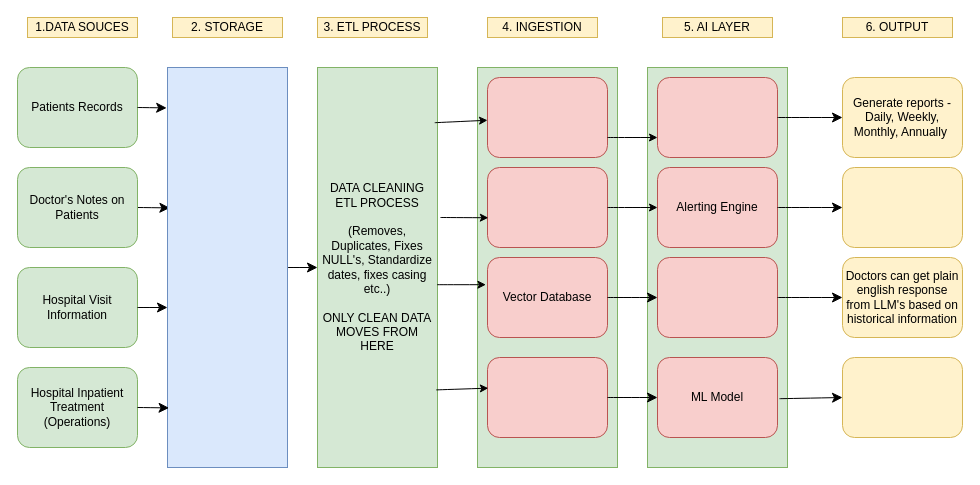
Some shapes in this 980 by 485 pixel diagram are drawn without their labels. Each missing label, with the centre of its shape:
"BI Reporting" belongs at (717,117).
"Dataware House" belongs at (547,117).
"Doctors can see high risk patients in flagged state" belongs at (902,397).
"ICU alert's for high risk patients during emergency situation. Nurse is notified" belongs at (902,207).
"LLM" belongs at (717,297).
"SQL Database" belongs at (547,397).
"Storage Area (Ra w data from all sources is stored here)" belongs at (227,267).
"Time Series" belongs at (547,207).
